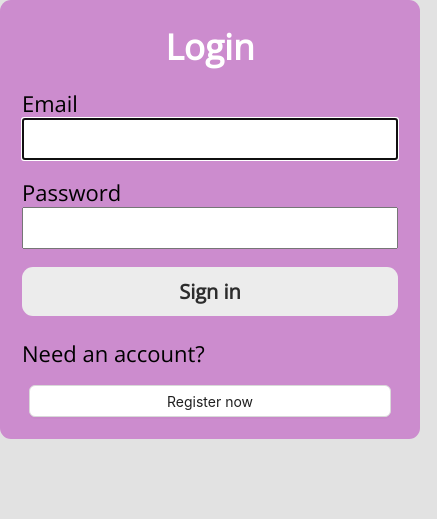
Login › handles form submission with network error
Step 1. Type "test@example.com" into the field labelled "Email" → (210, 139), box [22,118,398,160]
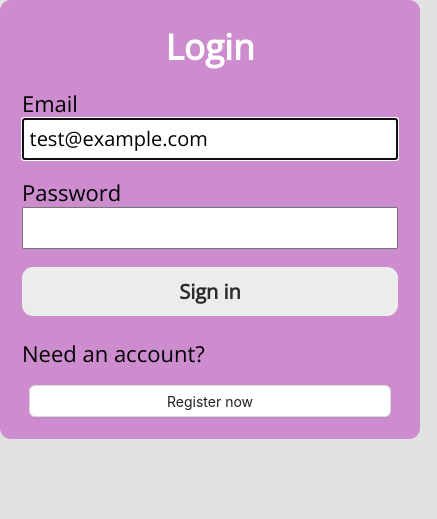
Step 2. Type "password123" into the password field labelled "Password" → (210, 228), box [22,207,398,249]
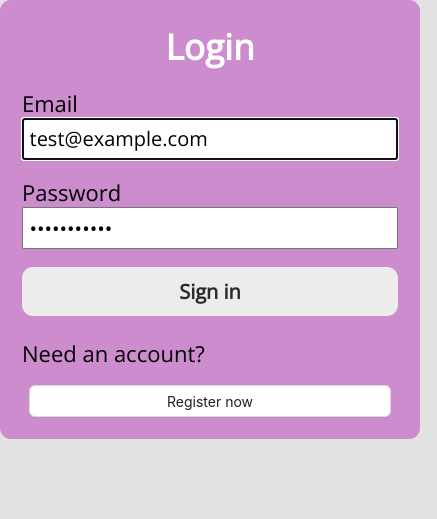
Step 3. Submit the form from the button "Sign in", box [22,267,398,316]
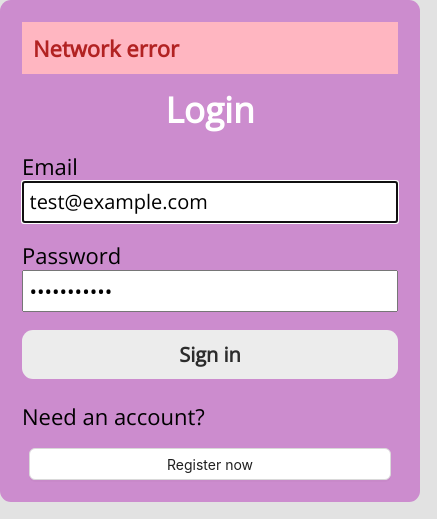
Check: the text "Network error" is shown, box [22,22,398,74]
